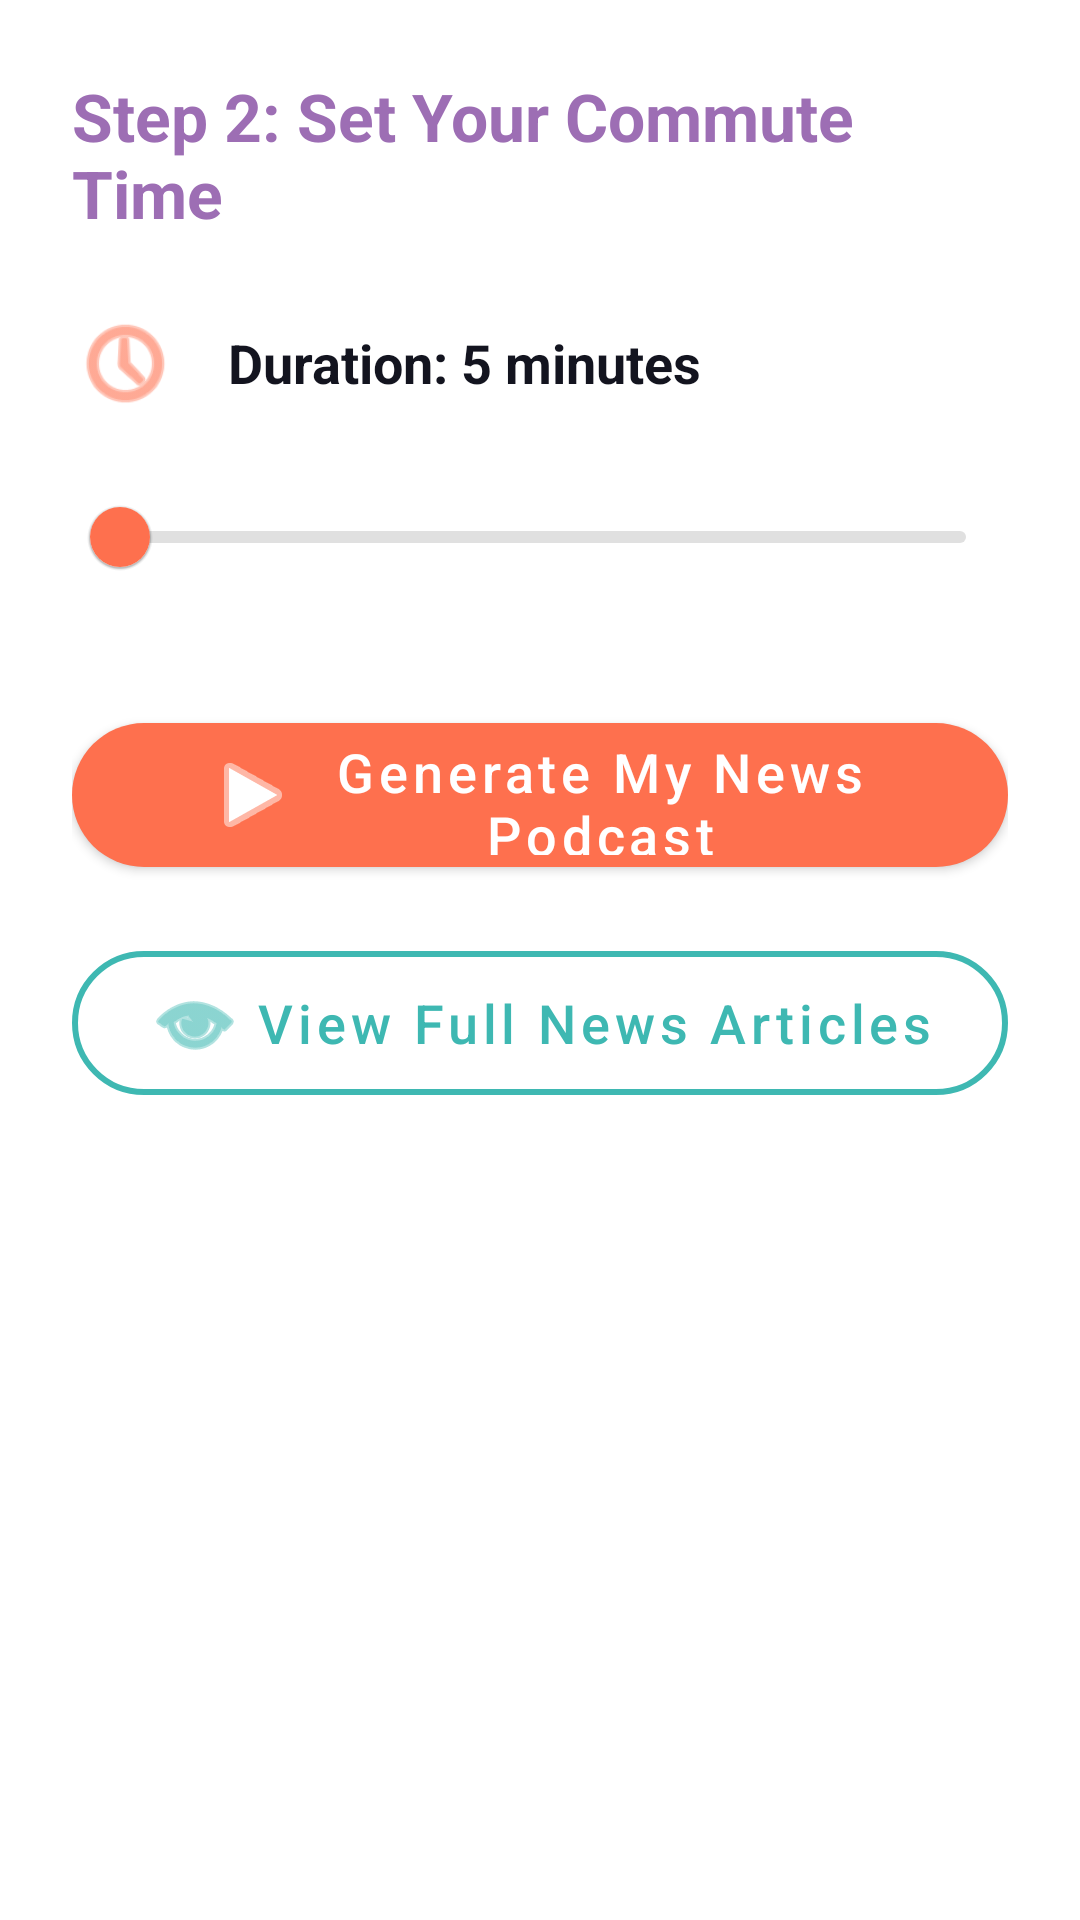

Icon bounding boxes for this 1080 × 1920 phone screenshot, format {"x1": x1, "y1": y1, "x2": x2, "y2": y2}:
recent history: {"x1": 86, "y1": 325, "x2": 165, "y2": 403}
